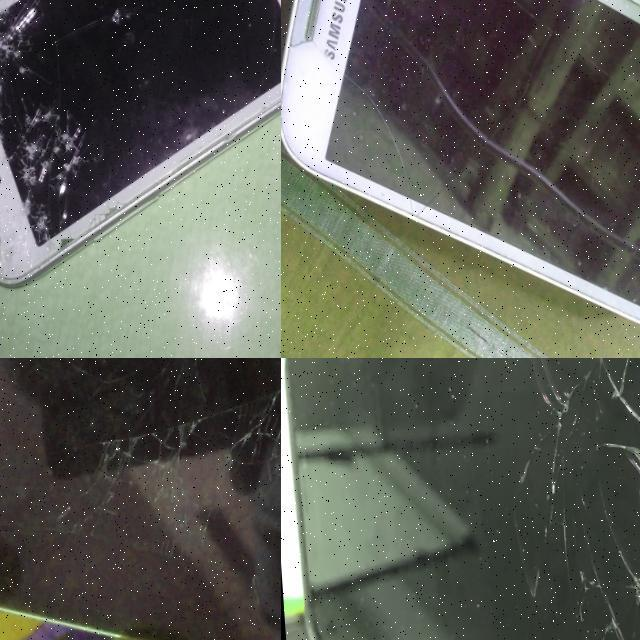screen crack: (353, 0, 640, 335), (478, 358, 640, 640), (15, 387, 257, 545), (0, 0, 91, 316), (102, 0, 141, 45)
